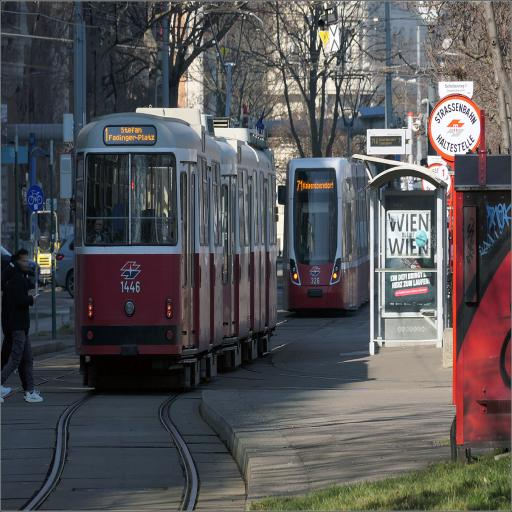E2-Tram: (73, 111, 276, 361)
Flexity: (285, 156, 368, 316)
